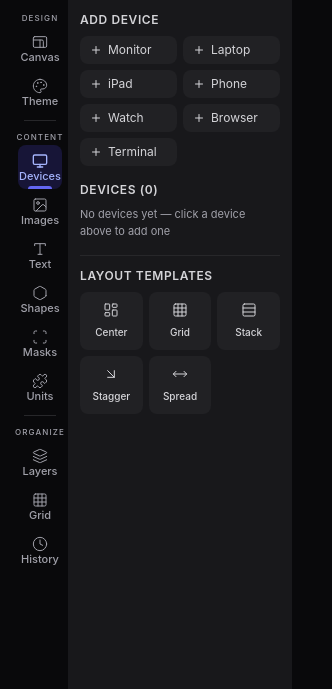
it: Sidebar rail › Theme panel no longer contains the canvas size editor
Click the button "Theme". click: (40, 92)
box: [18,70,62,114]
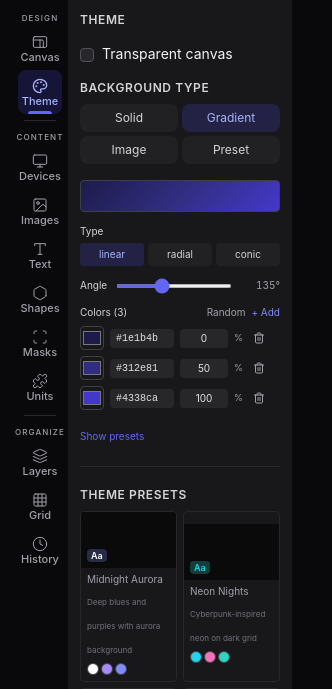
Result: the heading "Theme Presets" is shown at [80,487,187,502]
